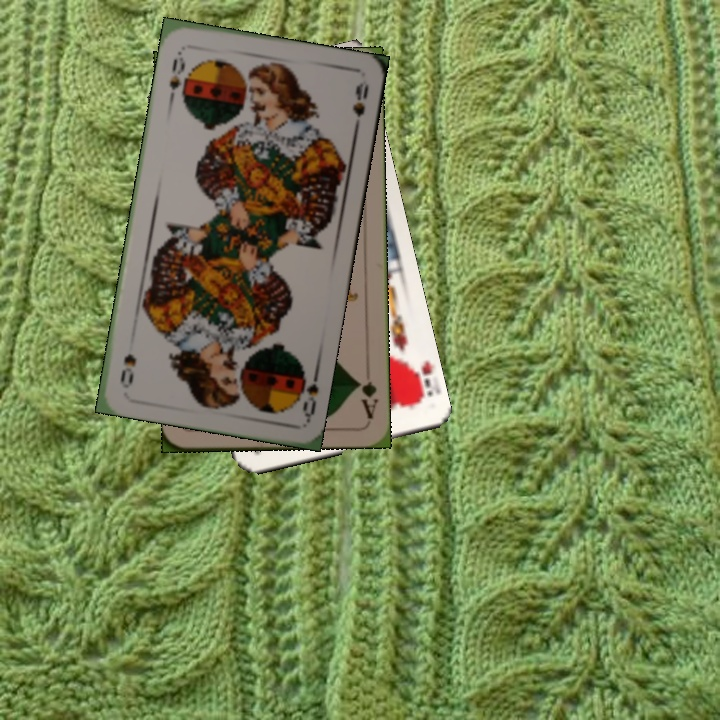GA: (354, 375, 380, 421)
HK: (404, 356, 439, 407)
SO: (292, 361, 322, 423), (165, 47, 188, 104)
